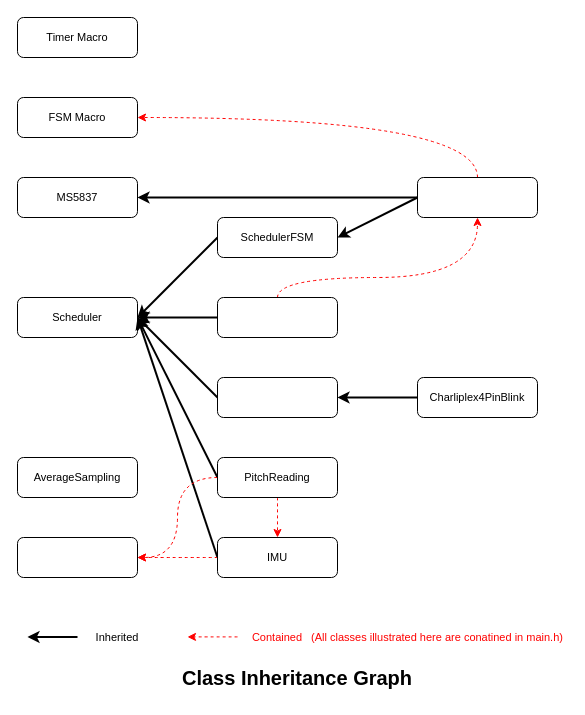
Some shapes in this 585 by 715 pixel diagram are drawn without their labels. Each missing label, with the box of its shape:
Charliplex4Pin: (216, 376, 338, 418)
DepthReading: (216, 296, 338, 338)
MS5837_FSM: (416, 176, 538, 218)
Vector3D: (16, 536, 138, 578)
